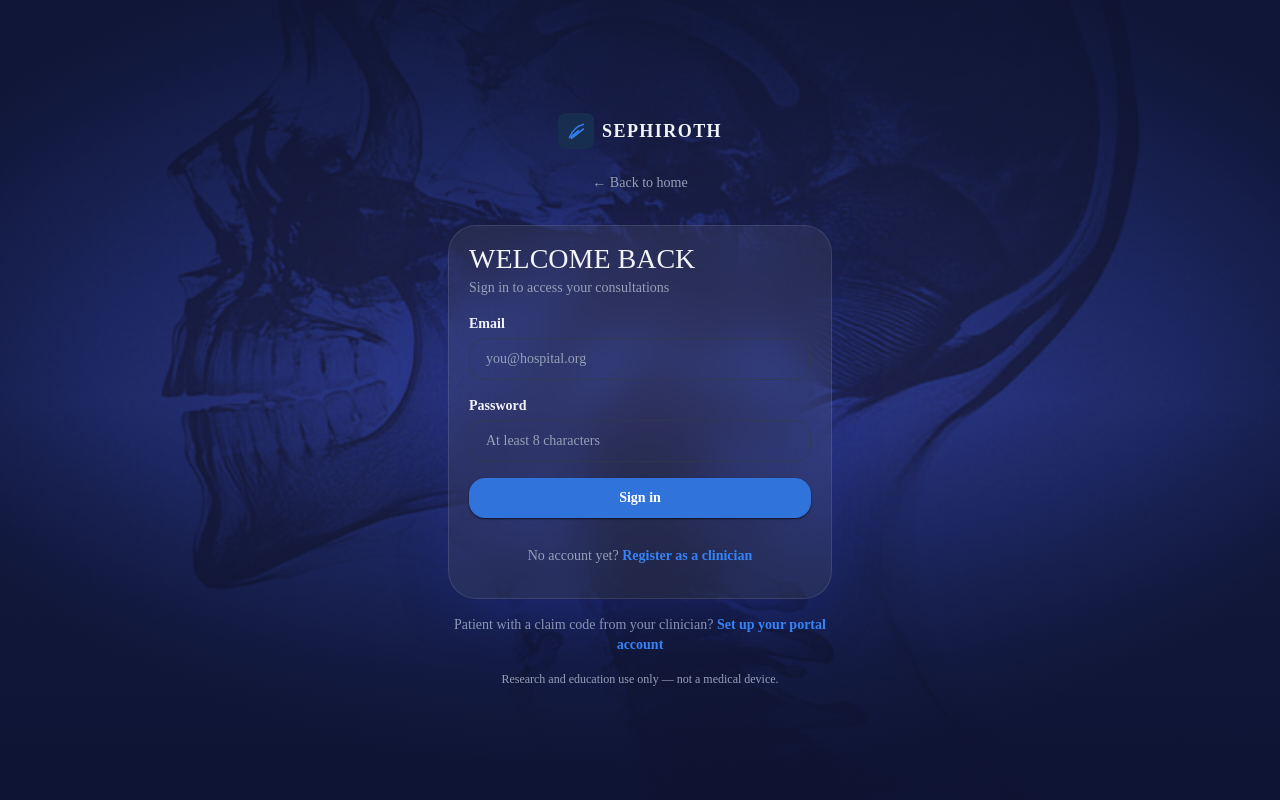
Test: LoginPage error classification › renders invalidCredentials on a 401
Type "doc@example.org" into the field with placeholder "you@hospital.org".
click(640, 359); type("doc@example.org")  # box [469, 338, 811, 380]
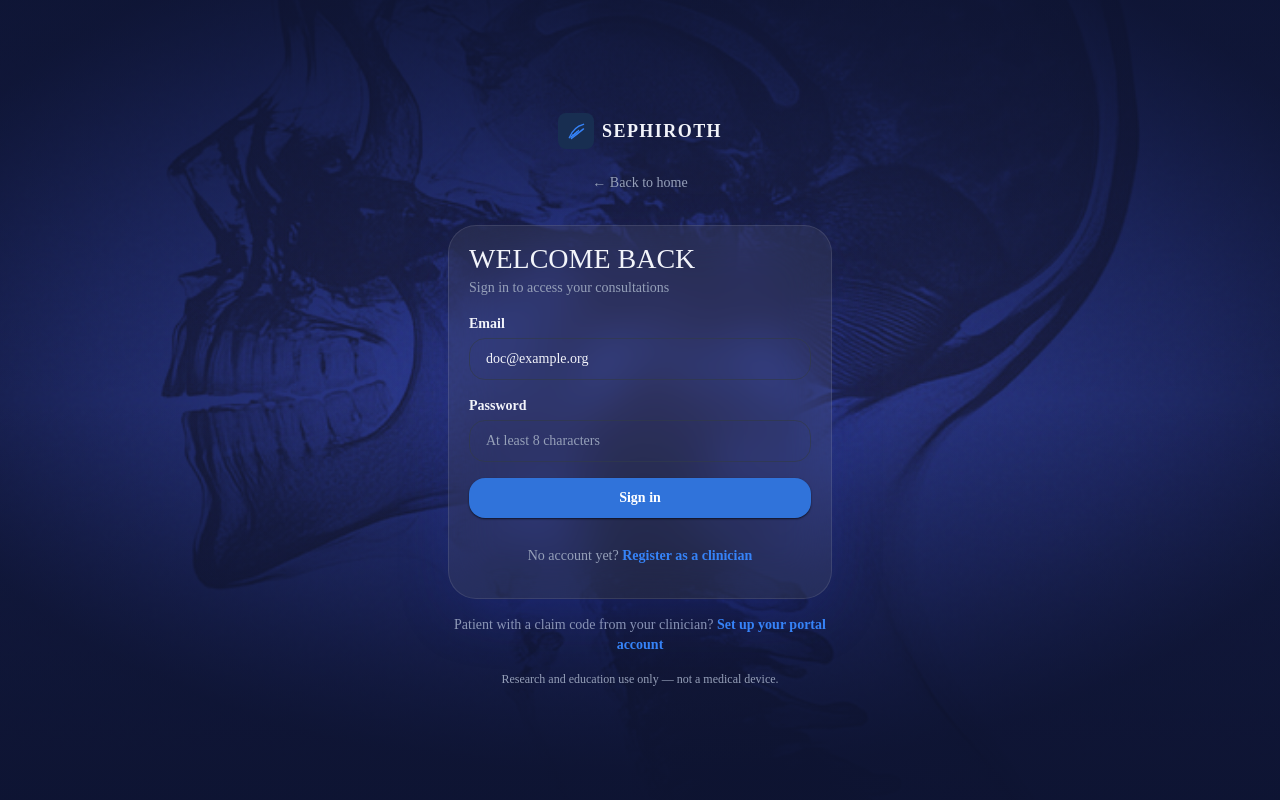
Type "password123" into the password field with placeholder "At least 8 characters".
click(640, 441); type("password123")  # box [469, 420, 811, 462]
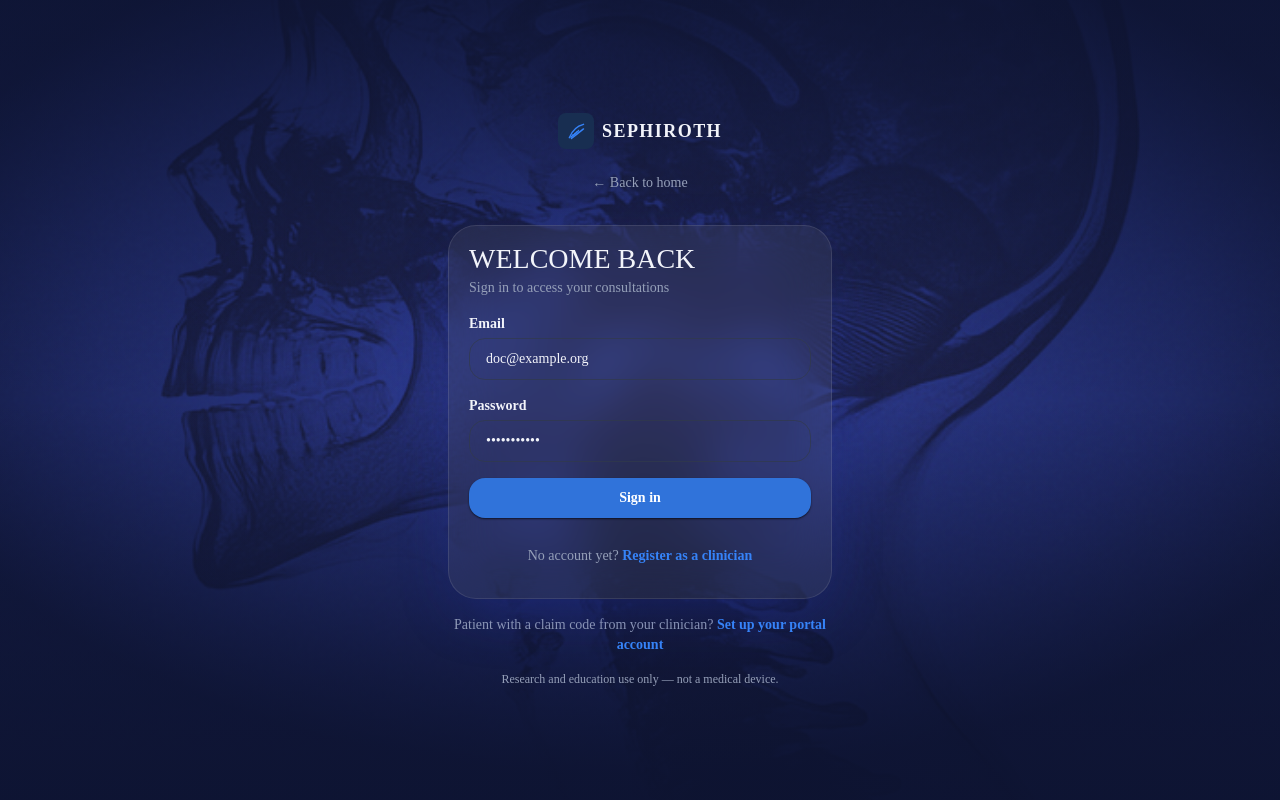
Click the button "Sign in".
click(640, 498)  # box [469, 478, 811, 518]
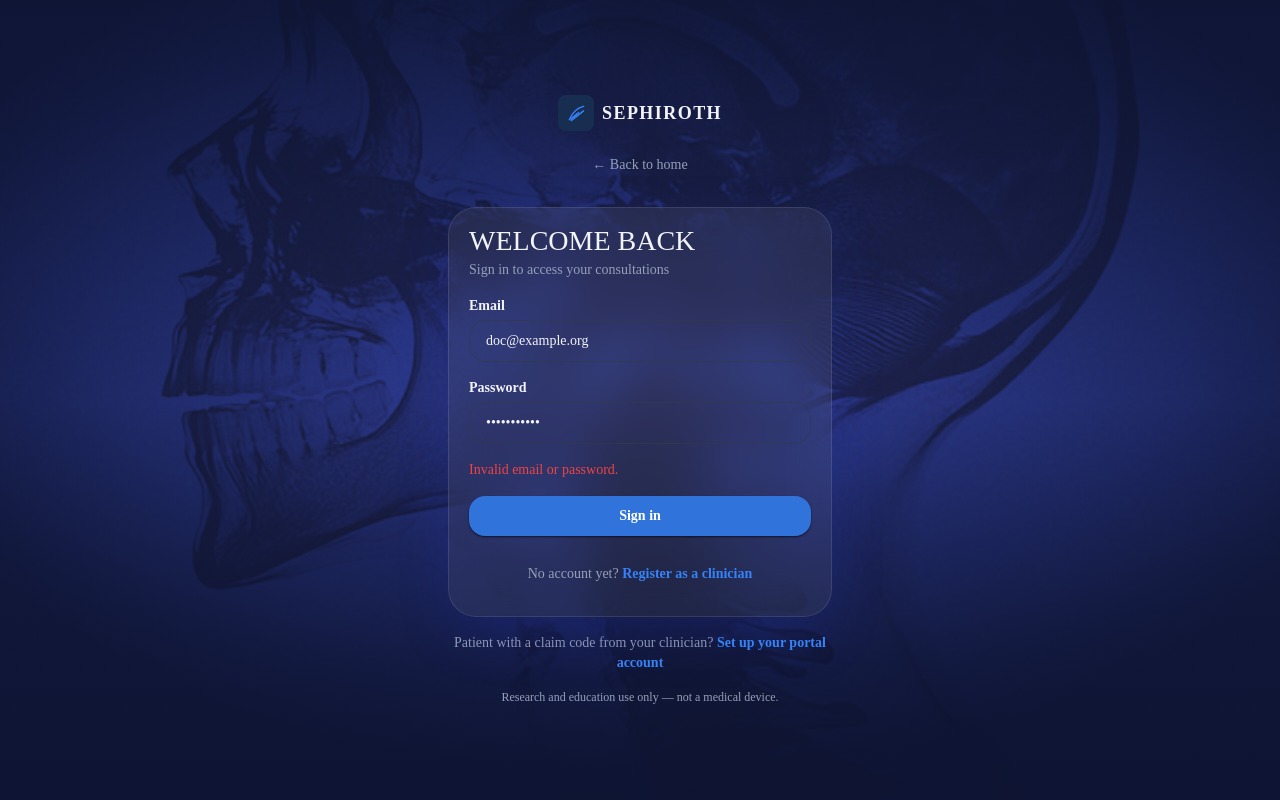
Now the text "Invalid email or password." is shown, box [469, 462, 618, 477]
